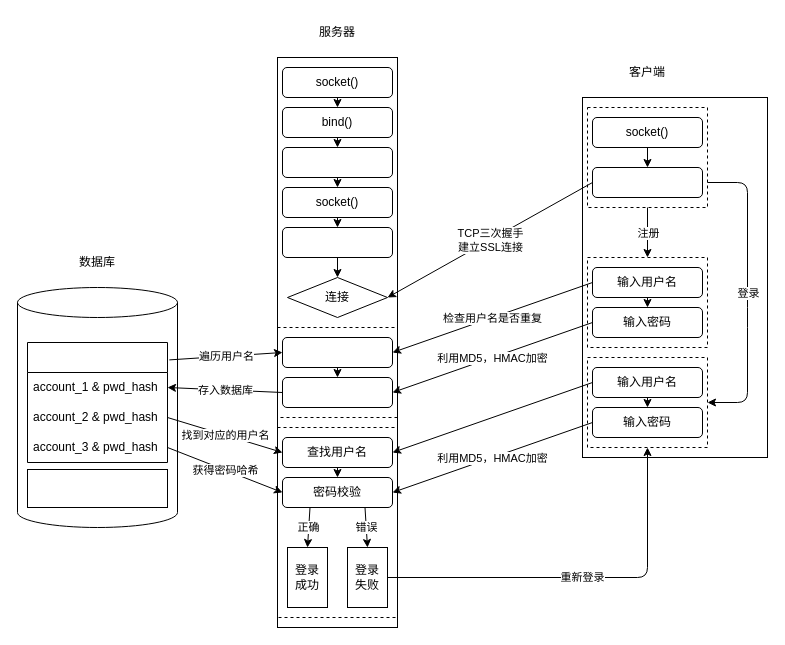
This 785x645 diagram has some shape labels left out. The box of each missing label's shape, as (x1, y1, x2, y2) in pixels:
accept(): (282, 226, 392, 258)
connect(): (592, 166, 702, 198)
listen(): (282, 146, 392, 178)
密码加密: (282, 376, 392, 408)
检查用户名: (282, 336, 392, 368)
用户名&密码: (26, 342, 168, 462)
用户名&盐值: (26, 468, 168, 508)
